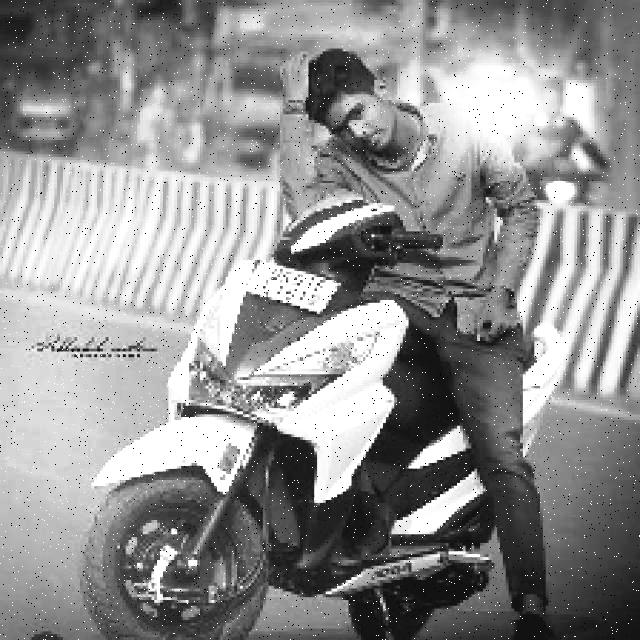Bike: (73, 223, 487, 639)
